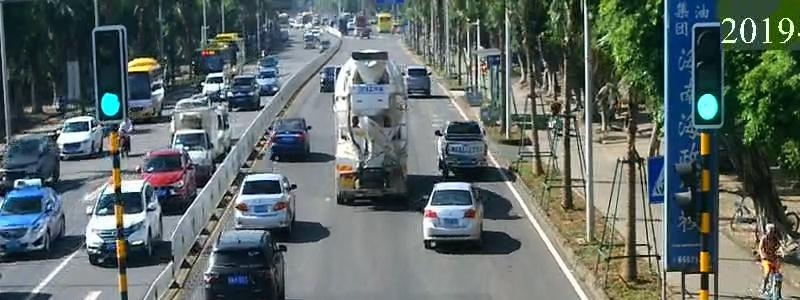green: (91, 83, 135, 130), (688, 87, 732, 133)
